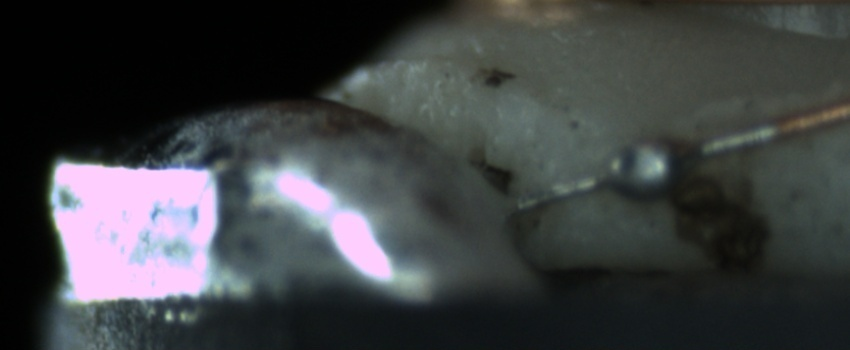TB: (592, 132, 693, 205)
TS: (510, 123, 775, 215)
TTCW: (495, 96, 828, 218)
